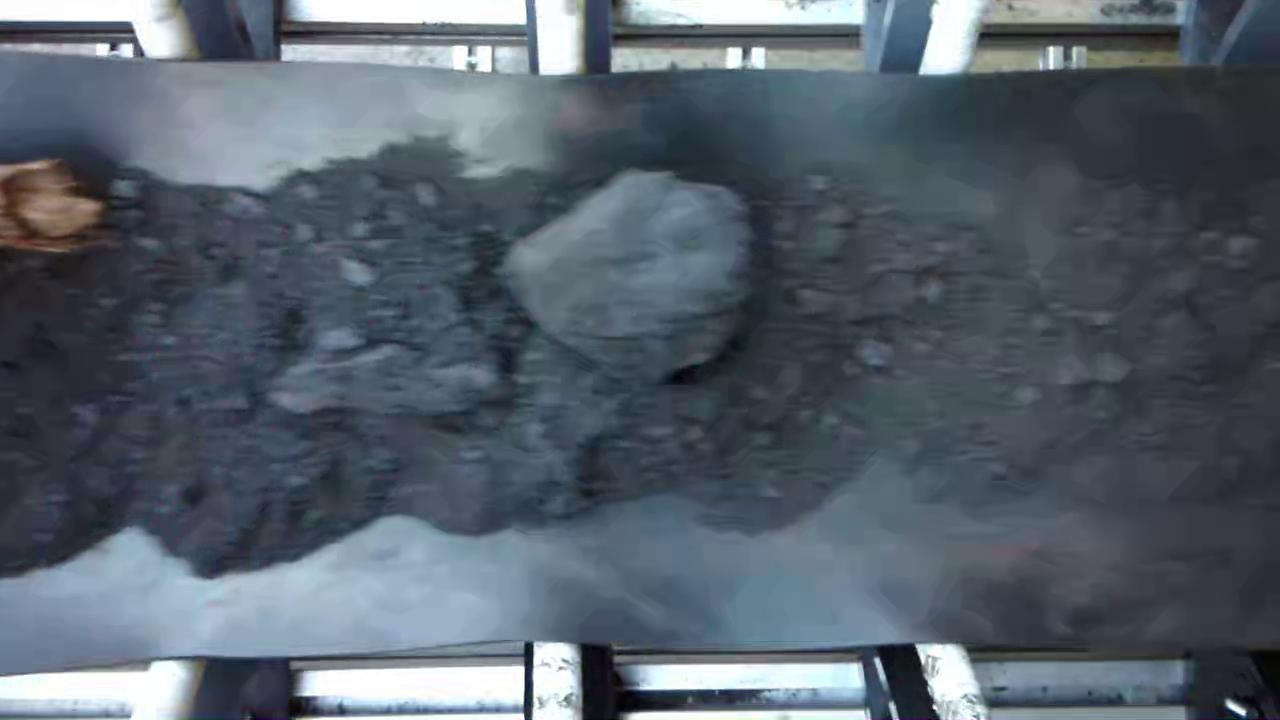conveyor: (1, 81, 1280, 638)
